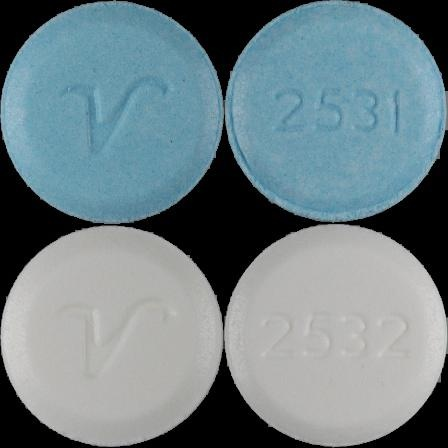0603-2949: (0, 0, 224, 224)
